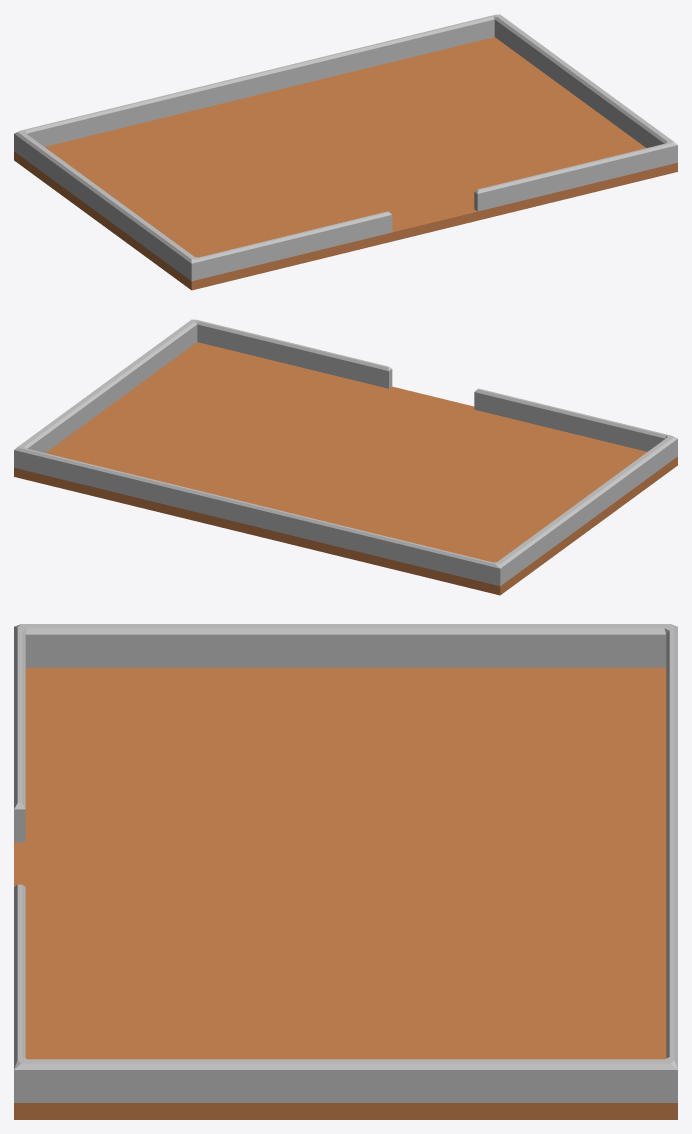
The model's file is Basketball_Ground.fbx.
3 renders of one model, top to bottom at view 1: azimuth 30°, elevation 25°; view 2: azimuth 150°, elevation 25°; view 3: azimuth 270°, elevation 25°, orthographic. The views are drawn at different scales.
Parts seen in each view (by area): view 1: Basketball_Ground; view 2: Basketball_Ground; view 3: Basketball_Ground.
Boxes of the visible parts, left/top/right/bottom form: Basketball_Ground: left=14, top=14, right=677, bottom=290; Basketball_Ground: left=14, top=319, right=677, bottom=595; Basketball_Ground: left=14, top=624, right=677, bottom=1119.
Size of the model in its own units: 856 by 49.09 by 542.
